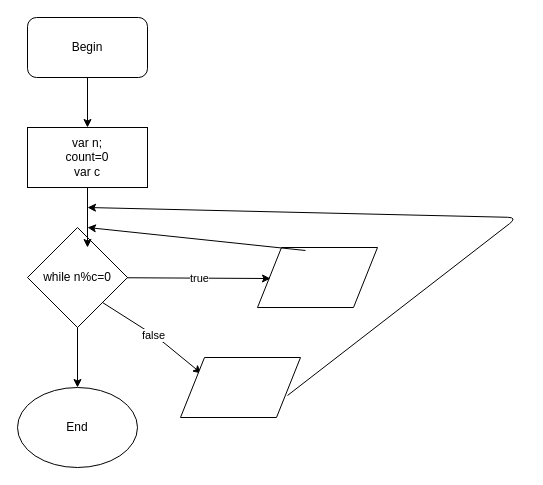
The diagram is 543 pixels wide and 485 high, and some of its shapes have lost their labels. Each missing label, with the box of its shape:
c++: (180, 356, 300, 418)
c++ count++: (256, 246, 378, 308)
